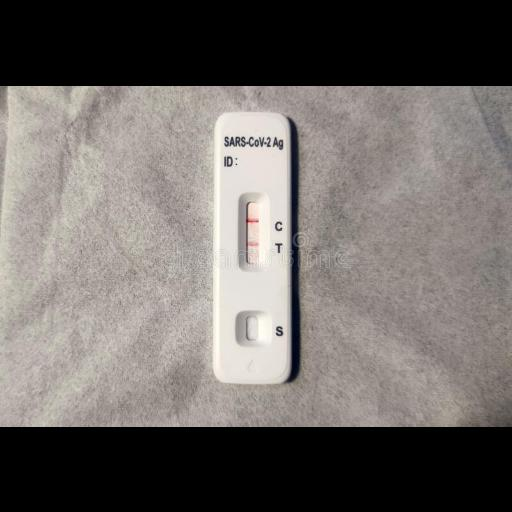Pos: (216, 115, 290, 381)
